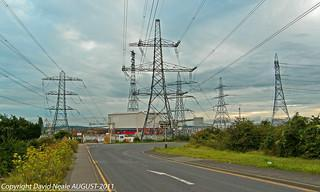power_tower: (129, 14, 188, 143), (36, 57, 91, 134), (260, 49, 299, 142), (207, 71, 232, 133)
